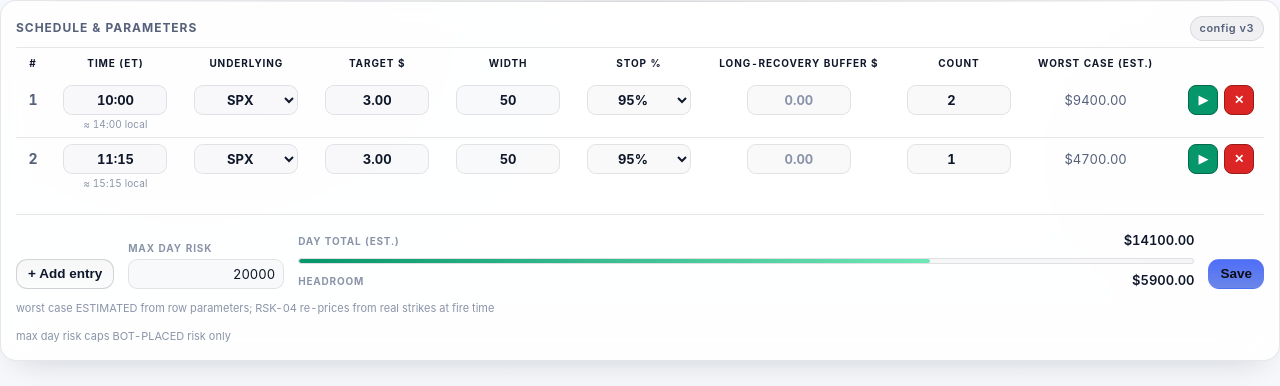
it: STP-02b / UI-18 — long-recovery buffer ($ stop_rebate_markup) › shows the worst-case dollar figure for markup 0.30, 1 contract: +$60
The width and height of the screenshot is (1280, 386).
Check: the table is shown, box [16,56,1264,196]
Replace the text in the number field named "contracts 1" with "1": (959, 100) [907,85,1011,115]
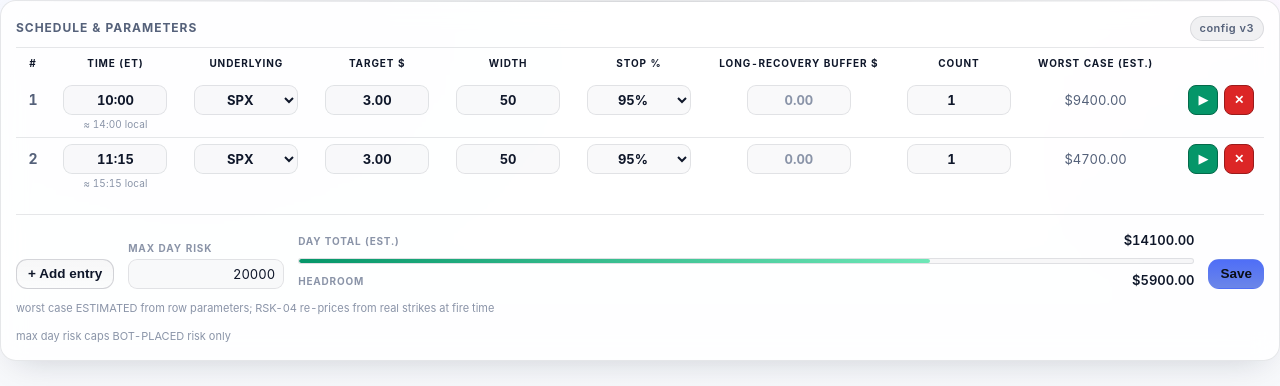
In the field named "long recovery buffer 1": (799, 100) [747,85,851,115], type "0.30"
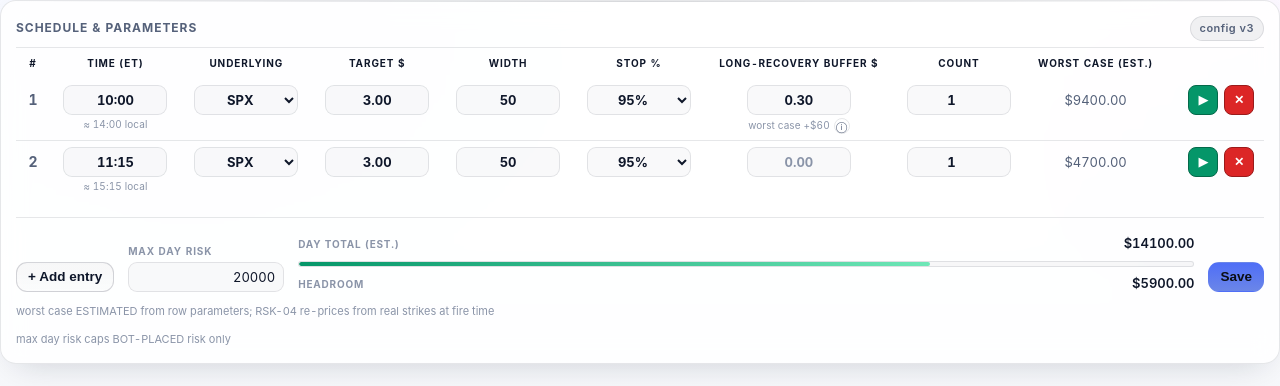
Check: the element with test id "markup-hint-0" shows "+$60", box [714,118,884,134]
